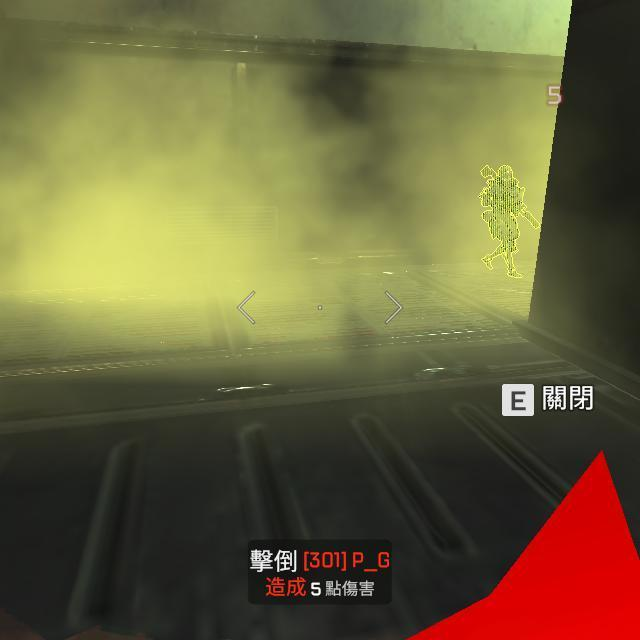avatar: (480, 163, 527, 281)
